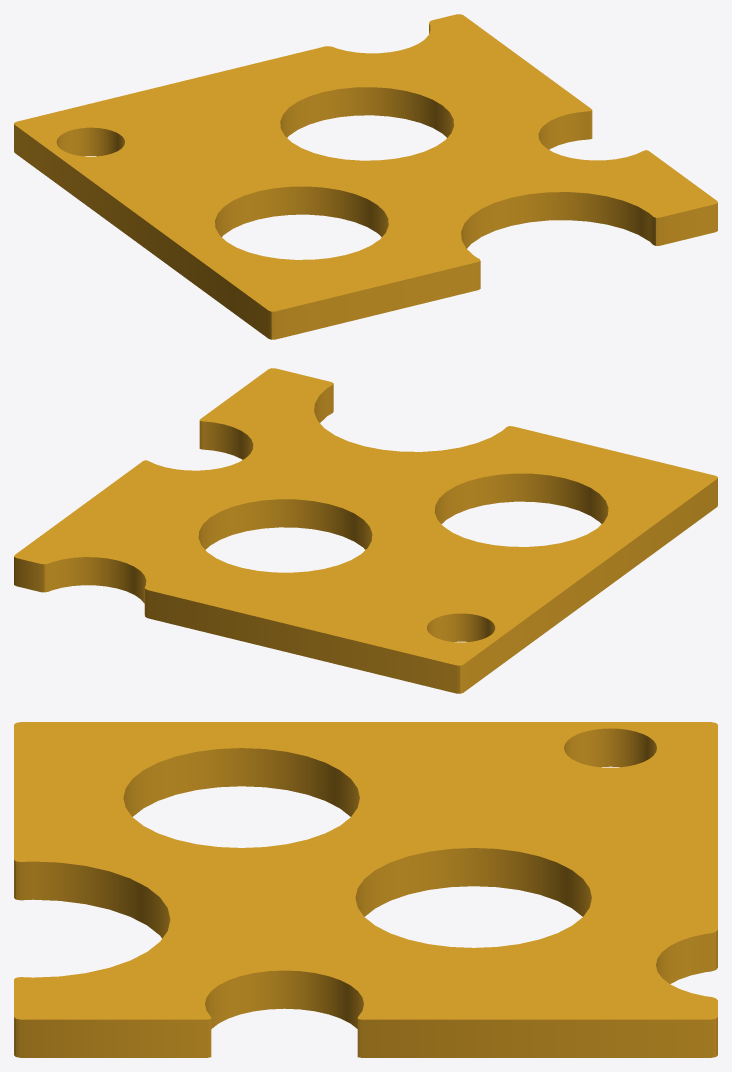
Rendered from cheese.glb.
3 views of the same model, one above another, from view 1: azimuth 30°, elevation 25°; view 2: azimuth 150°, elevation 25°; view 3: azimuth 270°, elevation 25° (orthographic). The views are drawn at different scales.
Parts seen in each view (by area): view 1: Cheese; view 2: Cheese; view 3: Cheese.
Part boxes in pixels (box(x1,y1,x2,y2)): Cheese: box(14, 14, 717, 339); Cheese: box(14, 368, 717, 693); Cheese: box(14, 722, 717, 1057).
Size of the model in its own units: 100 by 6 by 100.
